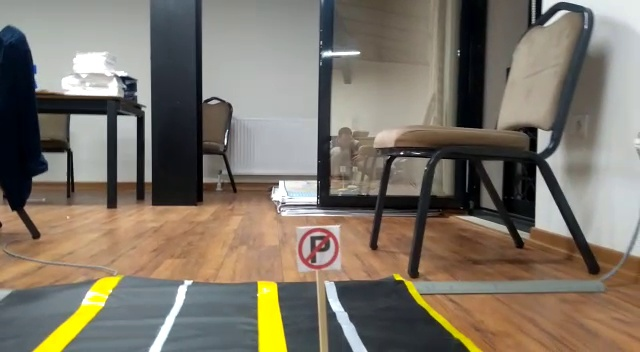park_yapilmaz: (293, 223, 339, 272)
